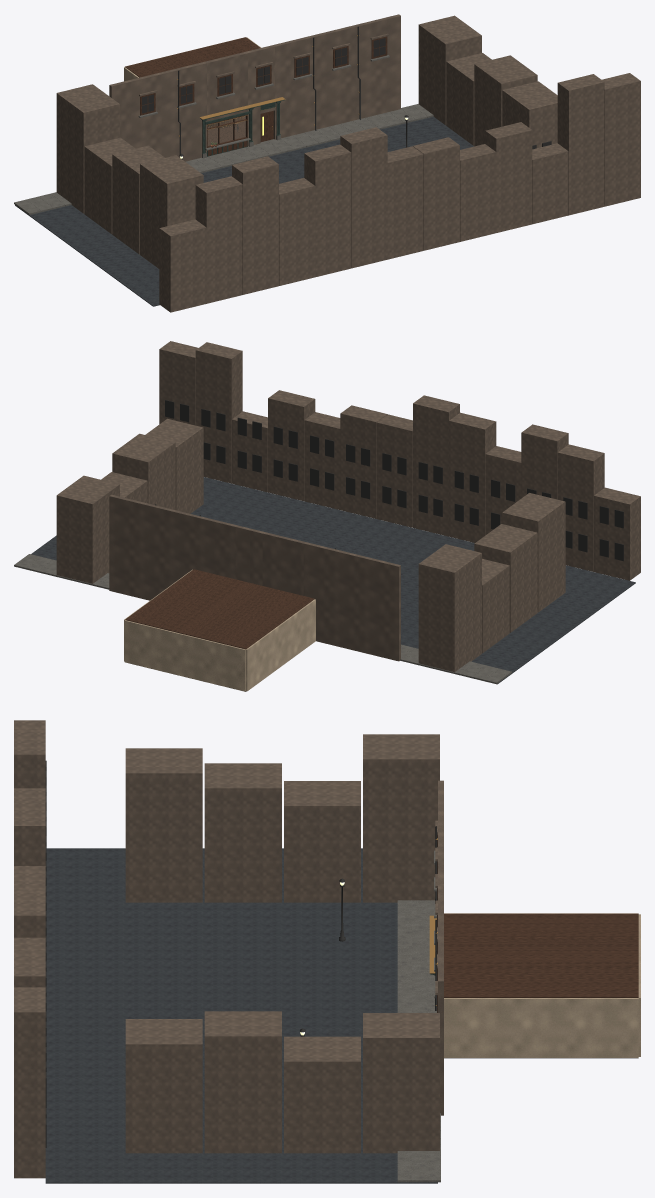
File: shop.glb
3 renders of one model, top to bottom at view 1: azimuth 30°, elevation 25°; view 2: azimuth 150°, elevation 25°; view 3: azimuth 270°, elevation 25°, orthographic. The views are drawn at different scales.
Visible parts, largest first — view 1: alley, facade, street, curb, room_ceiling, window_glass, room_floor; view 2: alley, facade, street, room_walls, room_ceiling, curb; view 3: alley, street, room_ceiling, room_walls, curb, facade.
Boxes of the visible parts, x1,y1,x2,y2 form: alley: (56,15,640,312); facade: (109,14,400,161); street: (15,116,474,306); curb: (14,104,433,214); room_ceiling: (125,37,260,77); window_glass: (208,116,245,145); room_floor: (207,116,245,145); alley: (56,341,640,672); facade: (109,494,400,661); street: (31,477,635,684); room_walls: (124,569,315,691); room_ceiling: (125,569,314,649); curb: (14,554,511,684); alley: (14,720,439,1178); street: (45,848,437,1183); room_ceiling: (444,913,638,997); room_walls: (444,913,640,1057); curb: (397,900,440,1182); facade: (429,780,443,1115).
Size of the model in its own units: 40 by 9.93 by 31.71.
Materials: 18 (9 with a texture image).
